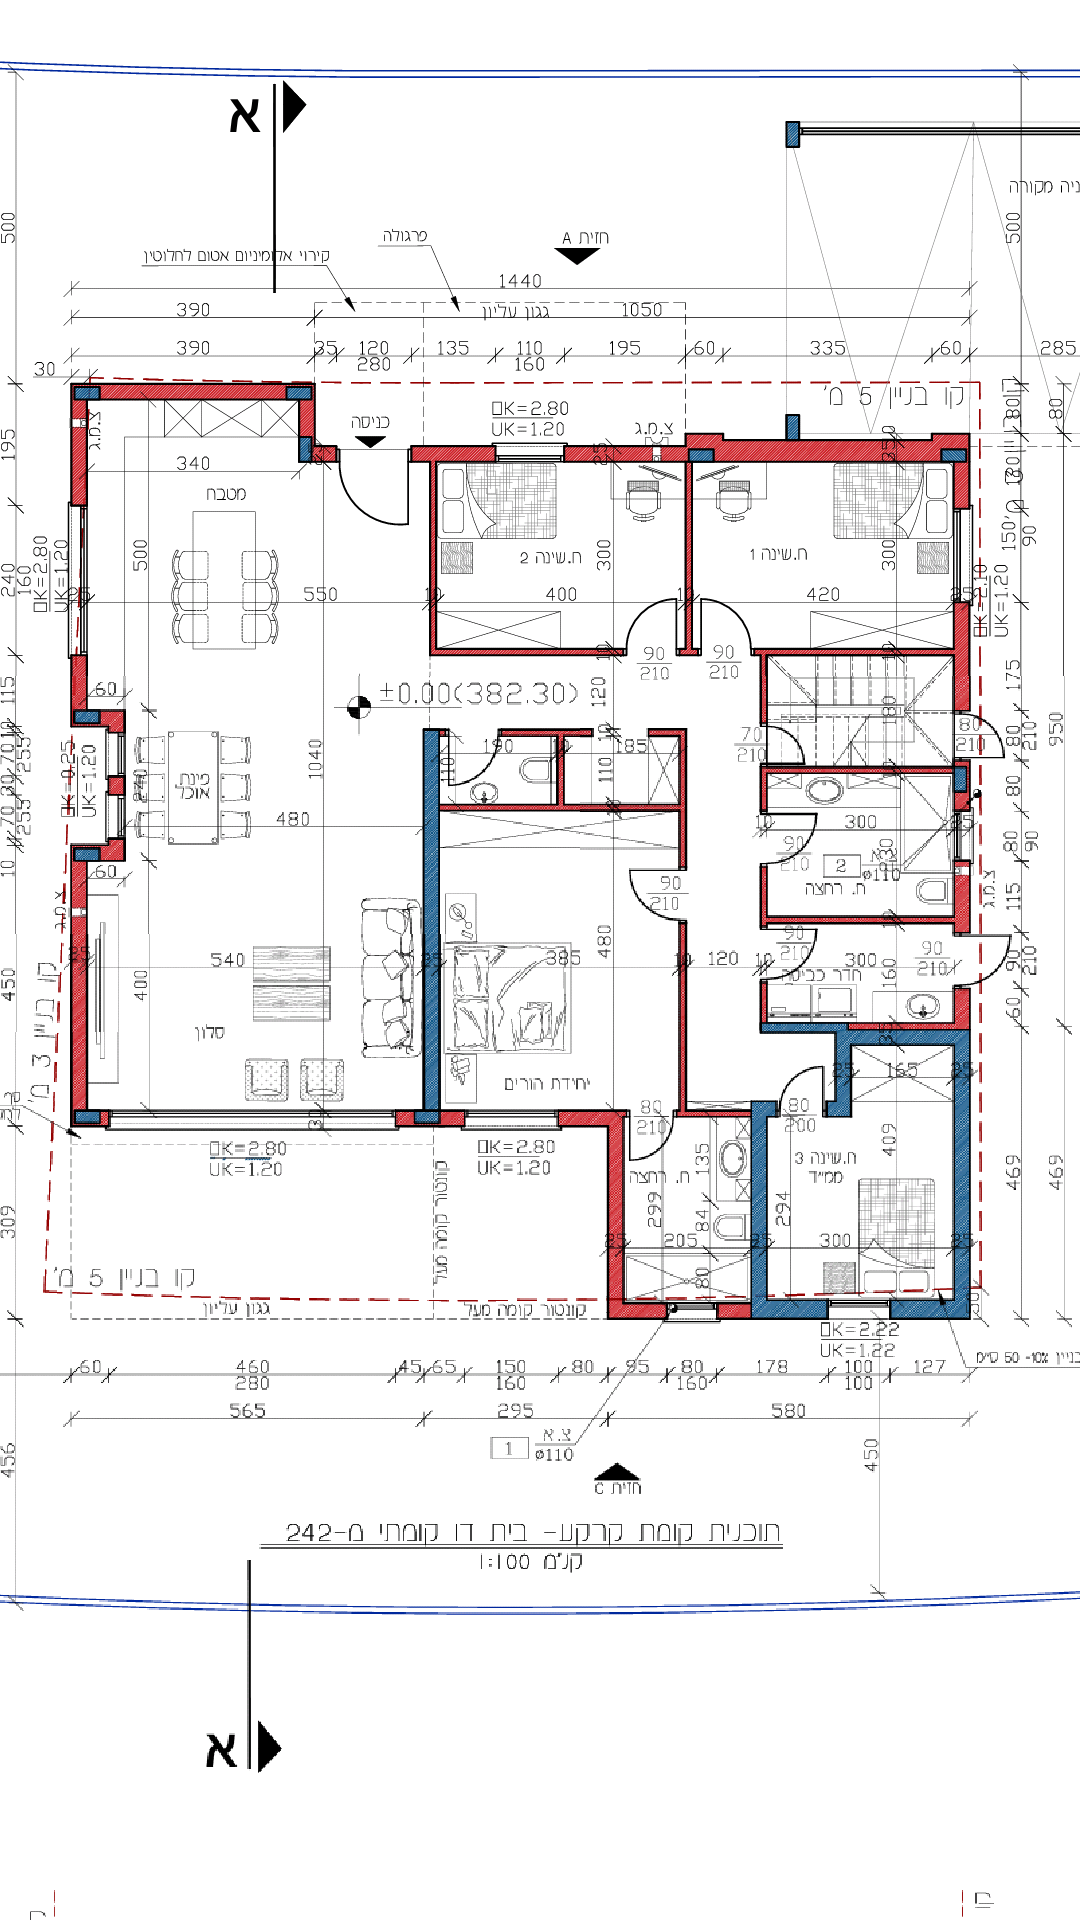door: (622, 861, 675, 930), (967, 930, 1022, 990), (766, 924, 822, 984), (695, 595, 756, 645), (771, 808, 823, 866), (622, 597, 682, 647), (622, 1112, 679, 1163), (443, 742, 502, 789), (774, 1055, 829, 1101), (770, 720, 815, 767)
window: (109, 1108, 396, 1129), (69, 505, 88, 658), (465, 1109, 560, 1131), (953, 509, 975, 608), (497, 443, 564, 465), (952, 808, 978, 862), (827, 1298, 890, 1320), (667, 1302, 717, 1321)
